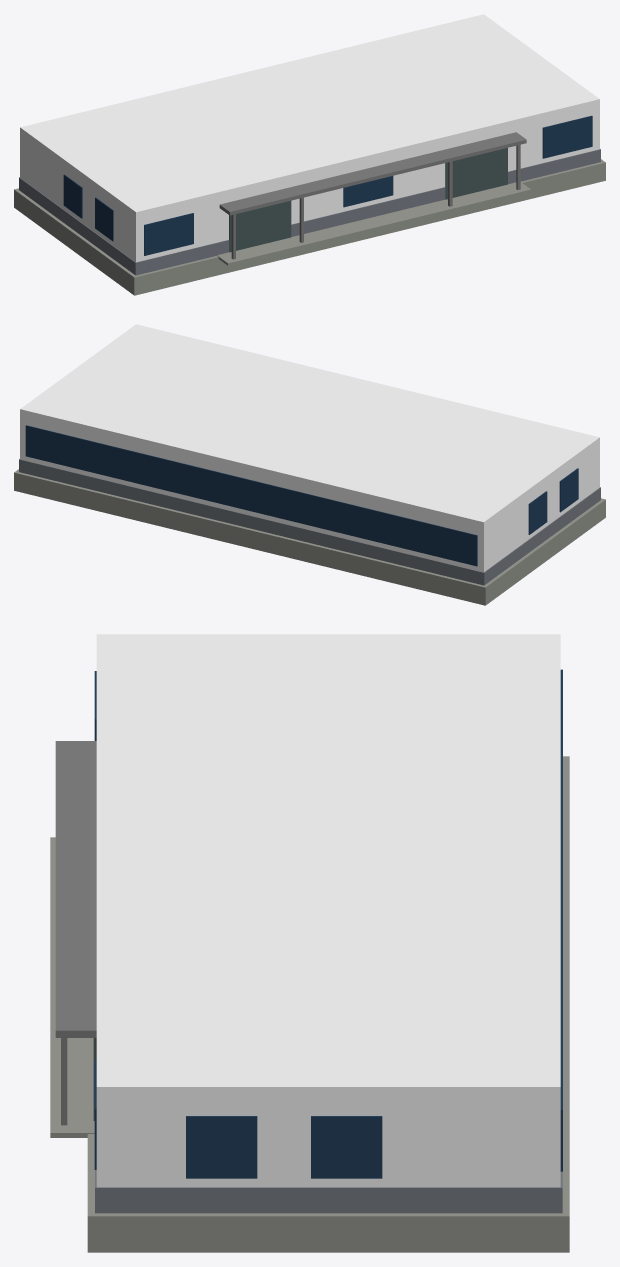
Rendered from mashup-lecture-base-prebuilt.fbx.
3 renders of one model, top to bottom at view 1: azimuth 30°, elevation 25°; view 2: azimuth 150°, elevation 25°; view 3: azimuth 270°, elevation 25°, orthographic. The views are drawn at different scales.
Parts seen in each view (by area): view 1: a201.LectureBase; view 2: a201.LectureBase; view 3: a201.LectureBase.
Boxes of the visible parts, left/top/right/bottom form: a201.LectureBase: left=14, top=14, right=605, bottom=295; a201.LectureBase: left=14, top=324, right=605, bottom=605; a201.LectureBase: left=50, top=634, right=569, bottom=1252.
Bounding box in the file's own units: 30.5 × 5 × 14.55.
